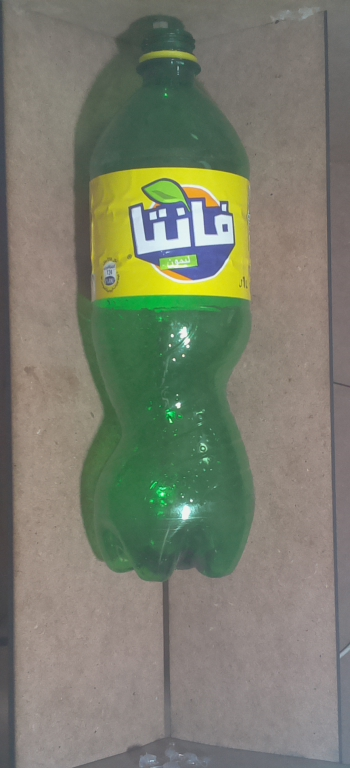Bouteille_1L: (78, 20, 263, 593)
